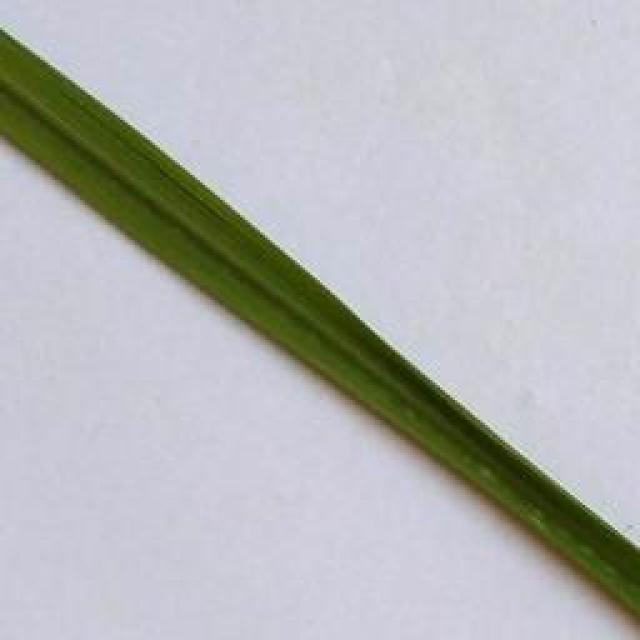Healthy-Plant: (0, 29, 640, 613)
